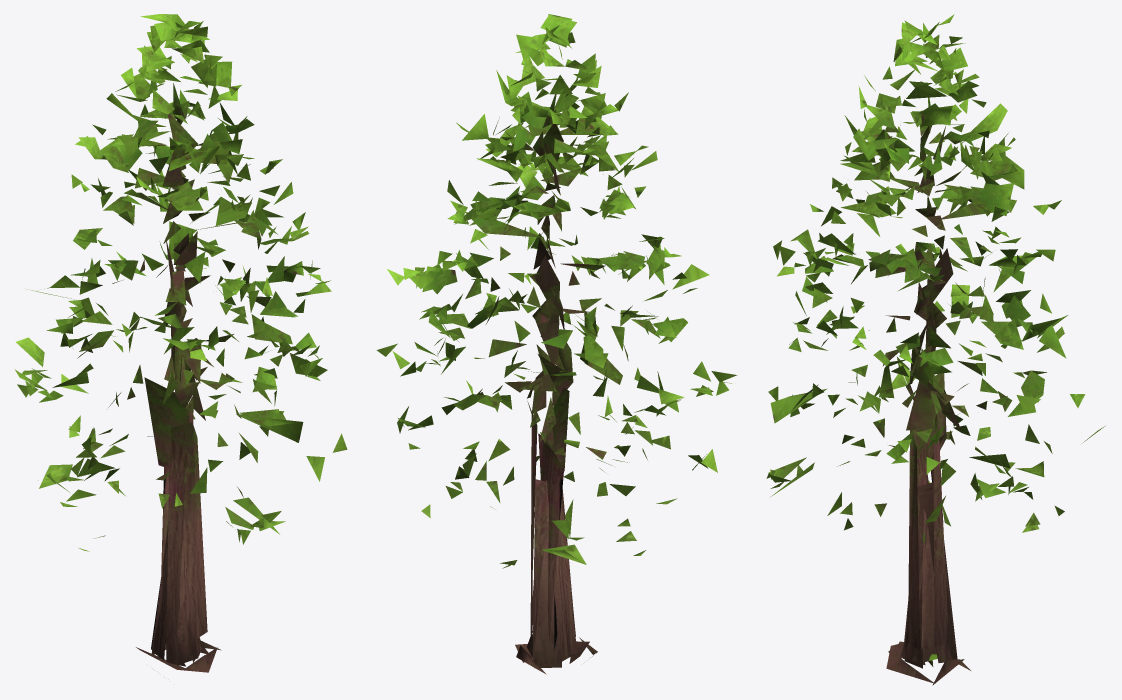
File: Pine.glb
3 views of the same model, side by side, from view 1: azimuth 30°, elevation 25°; view 2: azimuth 150°, elevation 25°; view 3: azimuth 270°, elevation 25° (orthographic).
Visible parts, largest first — view 1: Mesh0; view 2: Mesh0; view 3: Mesh0.
Part boxes in pixels (bbox=[...]): Mesh0: bbox=[15, 14, 347, 672]; Mesh0: bbox=[376, 14, 737, 674]; Mesh0: bbox=[766, 14, 1104, 685].
Bounding box in the file's own units: 0.8847 × 1.87 × 0.8896.
1 material, 1 textured.
